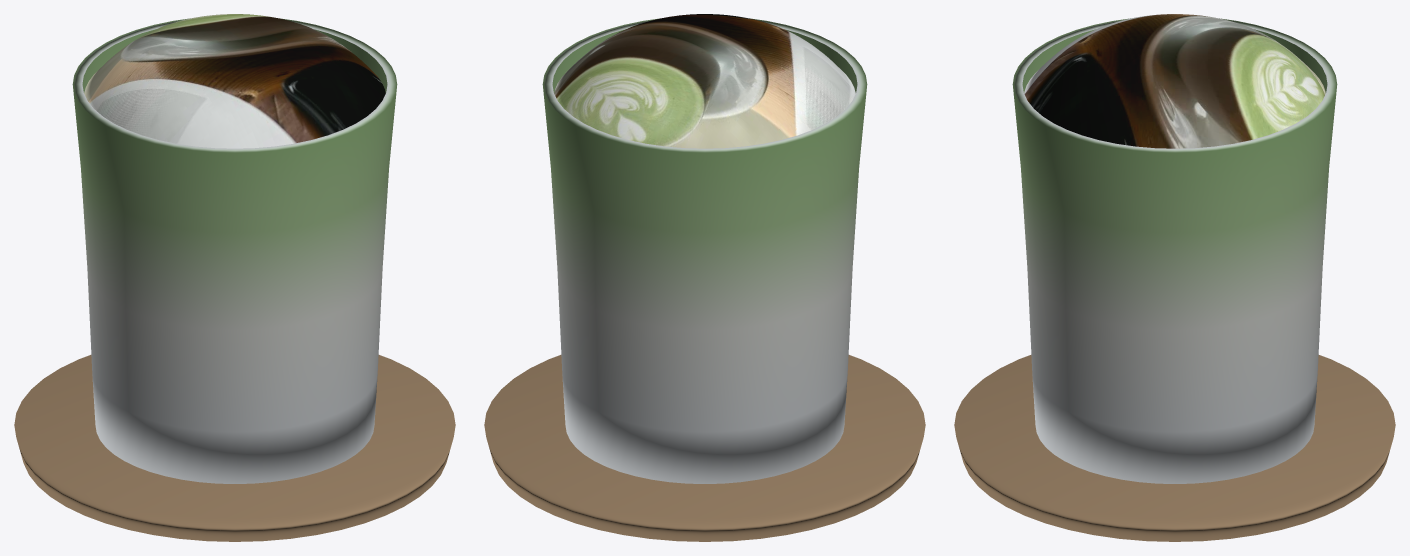
Rendered from matcha-cloud.glb.
The picture shows the model from 3 angles, left to right: view 1: azimuth 30°, elevation 25°; view 2: azimuth 150°, elevation 25°; view 3: azimuth 270°, elevation 25°; orthographic projection.
Parts seen in each view (by area): view 1: matcha-cloud; view 2: matcha-cloud; view 3: matcha-cloud.
Boxes of the visible parts, x1,y1,x2,y2 form: matcha-cloud: [14, 14, 455, 541]; matcha-cloud: [484, 14, 925, 541]; matcha-cloud: [954, 14, 1395, 541].
Bounding box in the file's own units: 0.1197 × 0.122 × 0.1197.
Materials: 2 (1 with a texture image).
